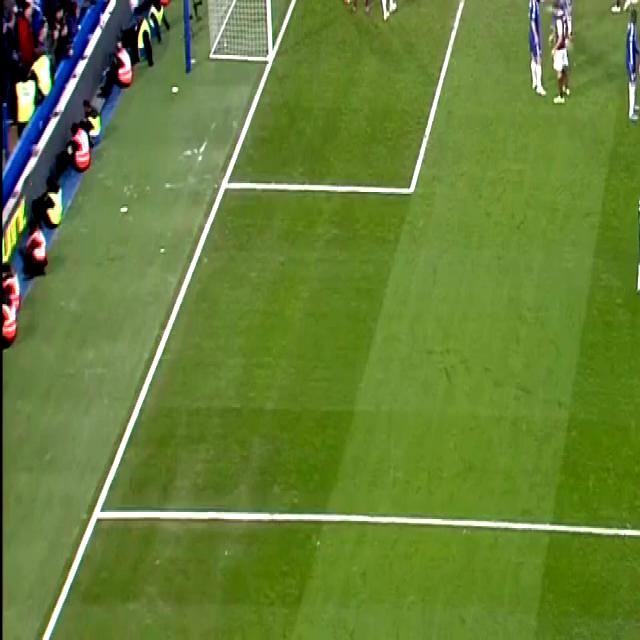goalkeeper: (329, 0, 358, 12)
soccer-player: (524, 0, 553, 103), (548, 0, 572, 108), (625, 5, 640, 128), (629, 174, 640, 308), (552, 0, 583, 39), (604, 0, 636, 21), (370, 0, 399, 23), (635, 9, 640, 131), (348, 0, 370, 20)
